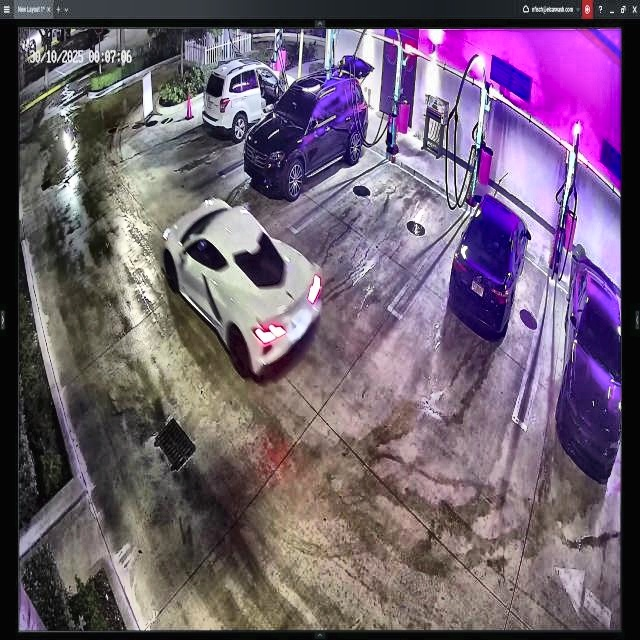Car: (162, 198, 321, 378), (243, 70, 370, 198), (447, 193, 531, 338)
